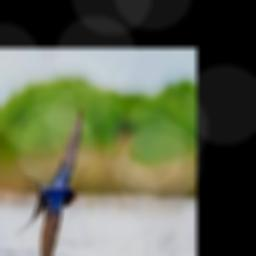Swallow: (16, 107, 81, 256)
